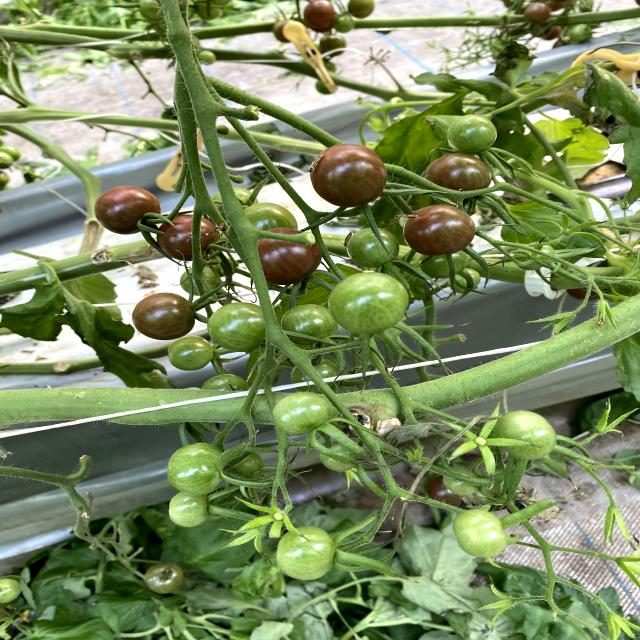ripe0: (327, 271, 409, 335), (275, 525, 336, 582), (495, 409, 557, 462), (167, 442, 227, 496), (207, 303, 268, 352), (272, 391, 332, 437), (282, 304, 335, 345), (347, 228, 401, 268), (447, 114, 497, 155), (168, 335, 213, 371), (167, 492, 211, 528)
ripe1: (310, 143, 387, 207), (257, 227, 323, 285), (403, 204, 475, 256), (94, 186, 162, 235), (133, 292, 195, 339), (423, 154, 493, 191), (160, 215, 216, 259)
